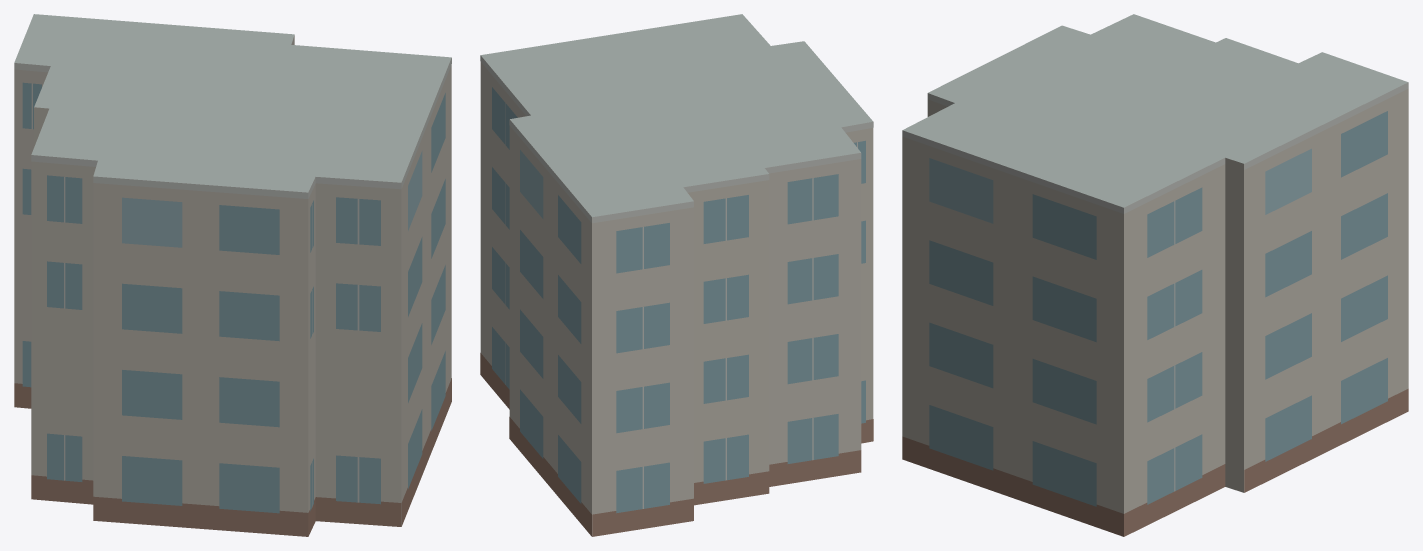
The model's file is survey-upis-32924979.glb.
3 renders of one model, left to right at view 1: azimuth 30°, elevation 25°; view 2: azimuth 150°, elevation 25°; view 3: azimuth 270°, elevation 25°, orthographic. The views are drawn at different scales.
Parts seen in each view (by area): view 1: survey-upis-32924979.tmp; view 2: survey-upis-32924979.tmp; view 3: survey-upis-32924979.tmp.
Part boxes in pixels (x1,y1,x2,y2): survey-upis-32924979.tmp: (14,14,451,536); survey-upis-32924979.tmp: (480,14,873,536); survey-upis-32924979.tmp: (902,14,1408,536).
Bounding box in the file's own units: 16.17 × 12.8 × 17.85.
